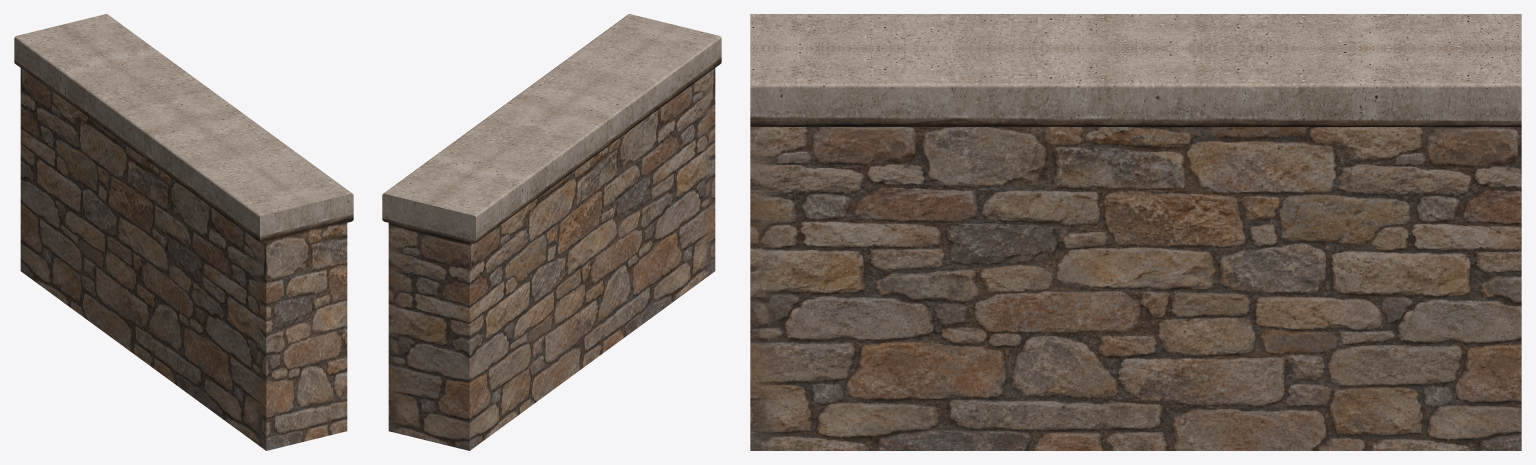
File: SM_Fence.fbx
3 renders of one model, left to right at view 1: azimuth 30°, elevation 25°; view 2: azimuth 150°, elevation 25°; view 3: azimuth 270°, elevation 25°, orthographic. The views are drawn at different scales.
Visible parts, largest first — view 1: SM_Update_Fence_v001; view 2: SM_Update_Fence_v001; view 3: SM_Update_Fence_v001.
Boxes of the visible parts, <box> form: SM_Update_Fence_v001: <box>14,14,353,450</box>; SM_Update_Fence_v001: <box>382,14,721,450</box>; SM_Update_Fence_v001: <box>750,14,1521,450</box>.
Size of the model in its own units: 0.413 by 0.9934 by 1.87.
Materials: 1 (1 with a texture image).
